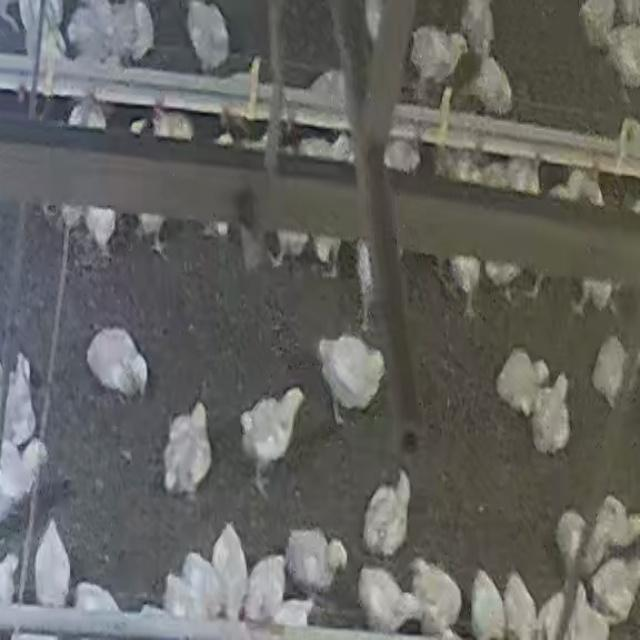chicken: (238, 388, 305, 491), (318, 335, 386, 417), (162, 402, 214, 496), (85, 327, 148, 401), (356, 563, 418, 635), (408, 558, 464, 636), (284, 526, 344, 594), (362, 474, 411, 557), (582, 493, 634, 571), (211, 520, 251, 621), (528, 374, 577, 453), (407, 24, 462, 94), (455, 52, 515, 116), (496, 346, 550, 415), (33, 517, 73, 607), (0, 438, 47, 512), (178, 550, 226, 622), (588, 556, 638, 624), (243, 553, 289, 626), (66, 0, 115, 68), (3, 352, 38, 446), (185, 1, 230, 72), (560, 584, 612, 640), (469, 566, 508, 640), (502, 570, 540, 639), (114, 0, 156, 61), (593, 336, 629, 406), (602, 22, 640, 88), (555, 508, 587, 576), (168, 572, 206, 624), (460, 1, 496, 54), (578, 1, 616, 51), (304, 68, 349, 110), (72, 581, 121, 613), (272, 600, 317, 631)
